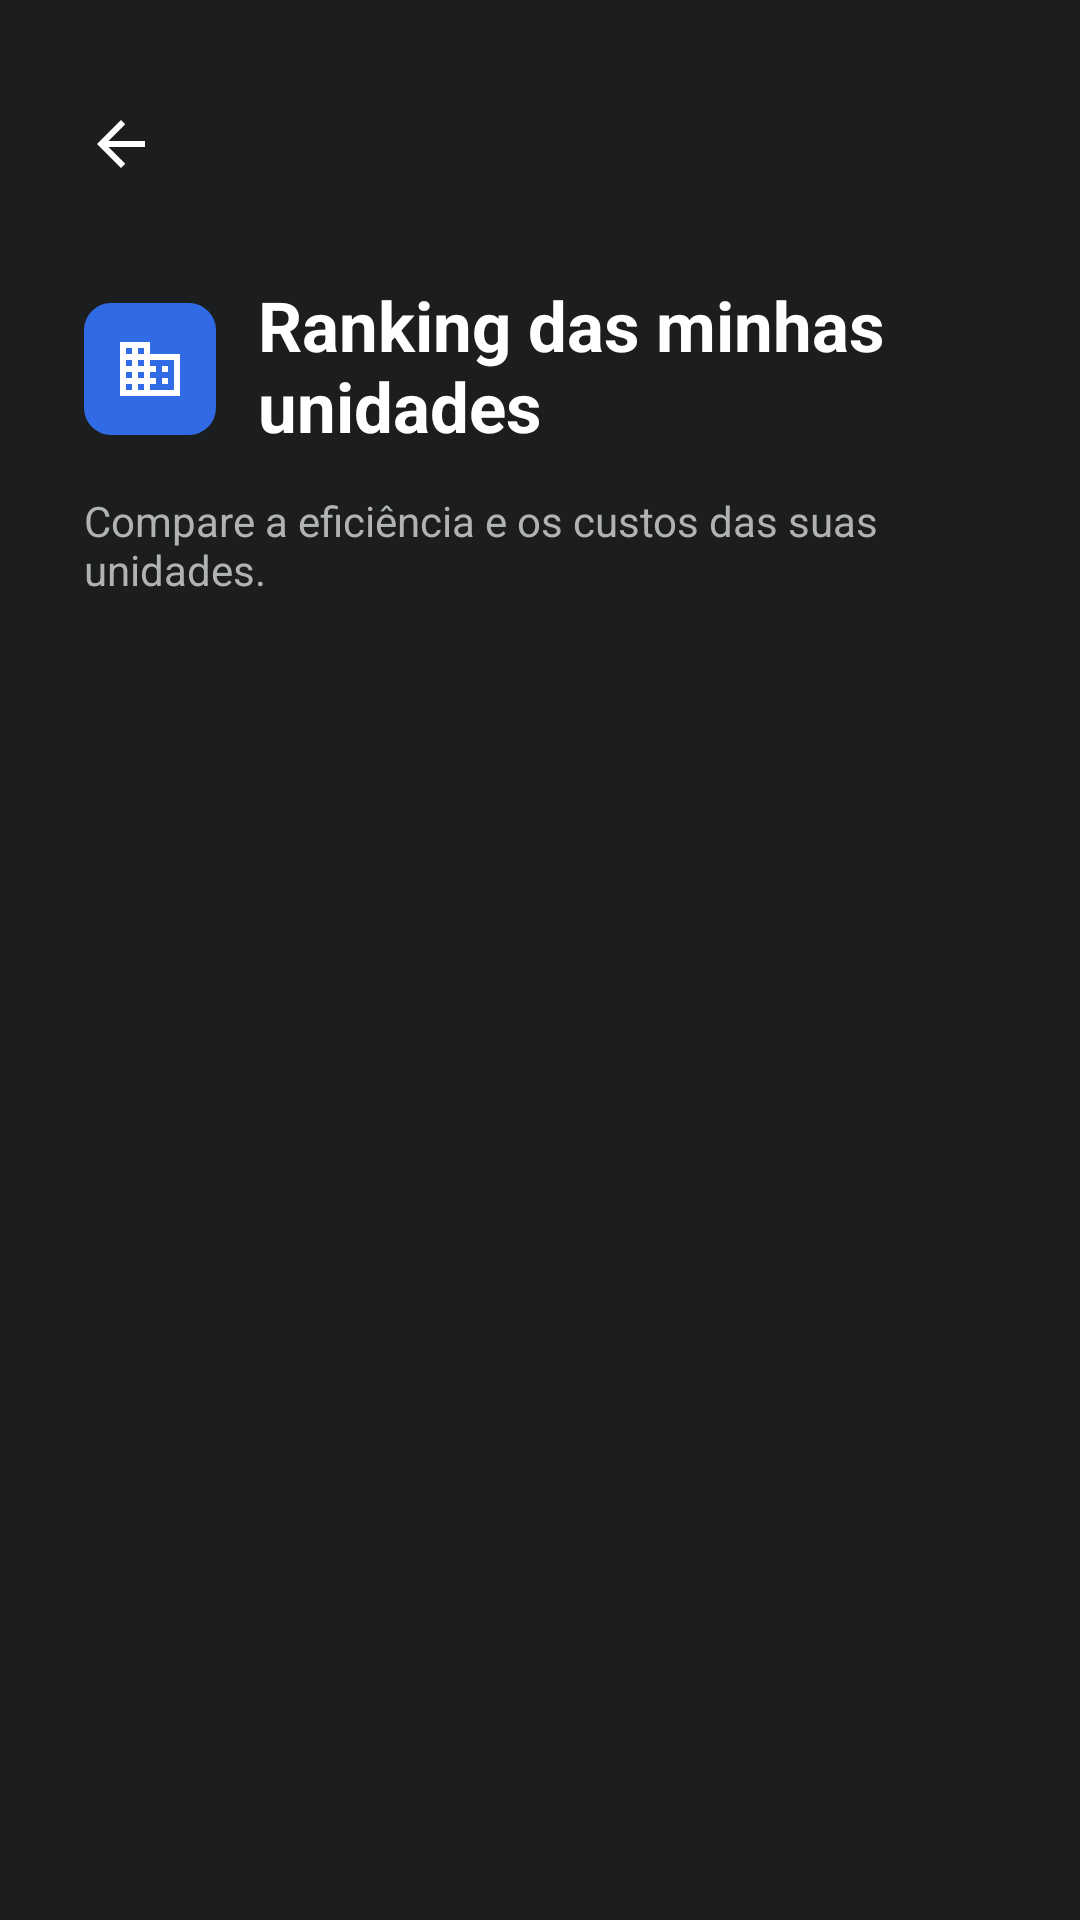

Where icons sit on this 1080px x 1920px app screen, as (left=x1, top=y1, right=x2, bottom=y2):
profile units: (left=84, top=303, right=216, bottom=435)
Voltar: (left=97, top=120, right=145, bottom=168)
